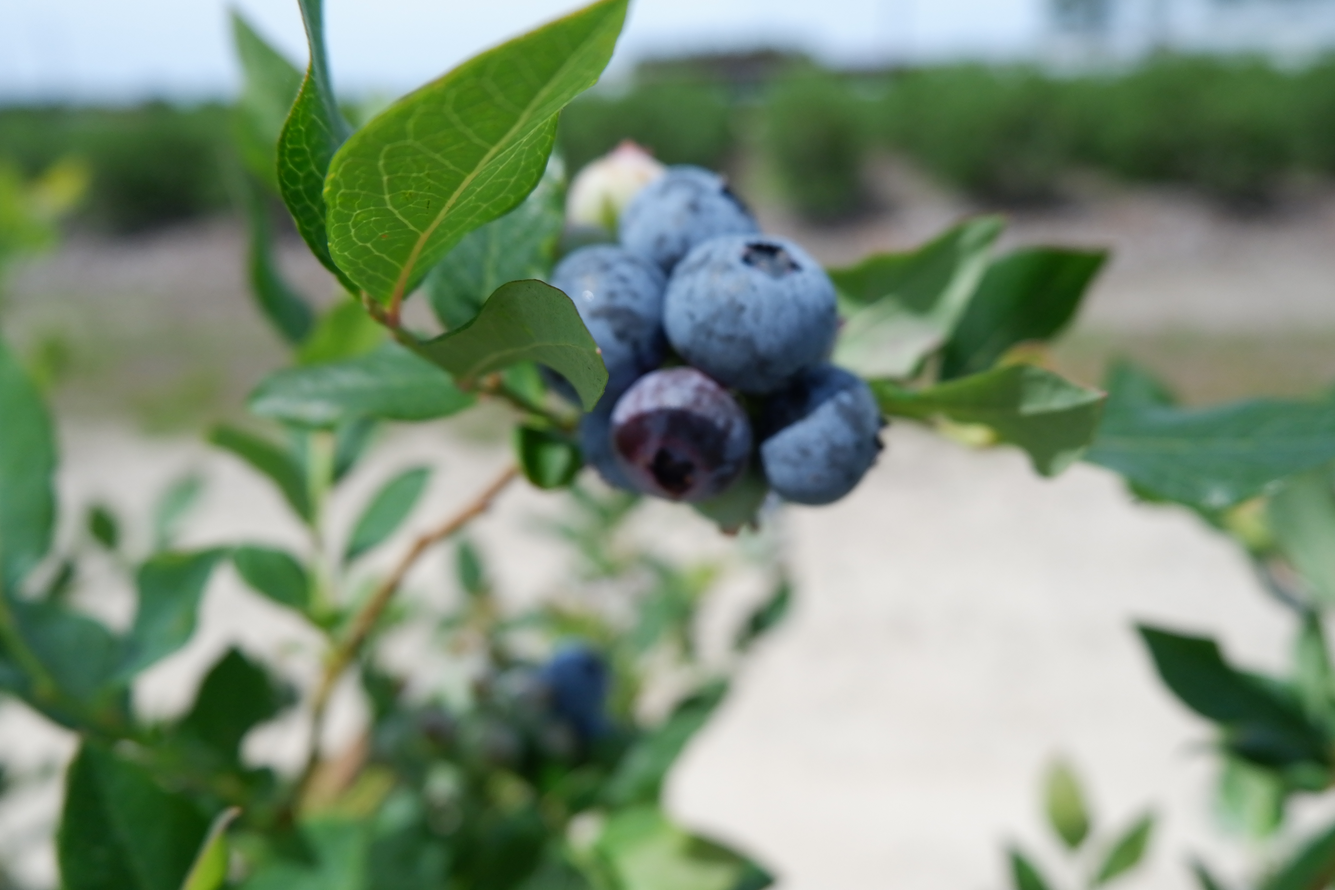Immature: (567, 139, 660, 236), (694, 459, 775, 533)
Mature: (666, 236, 837, 393), (613, 368, 750, 500), (755, 366, 880, 503), (554, 246, 669, 390), (623, 169, 760, 271), (578, 406, 635, 494)
